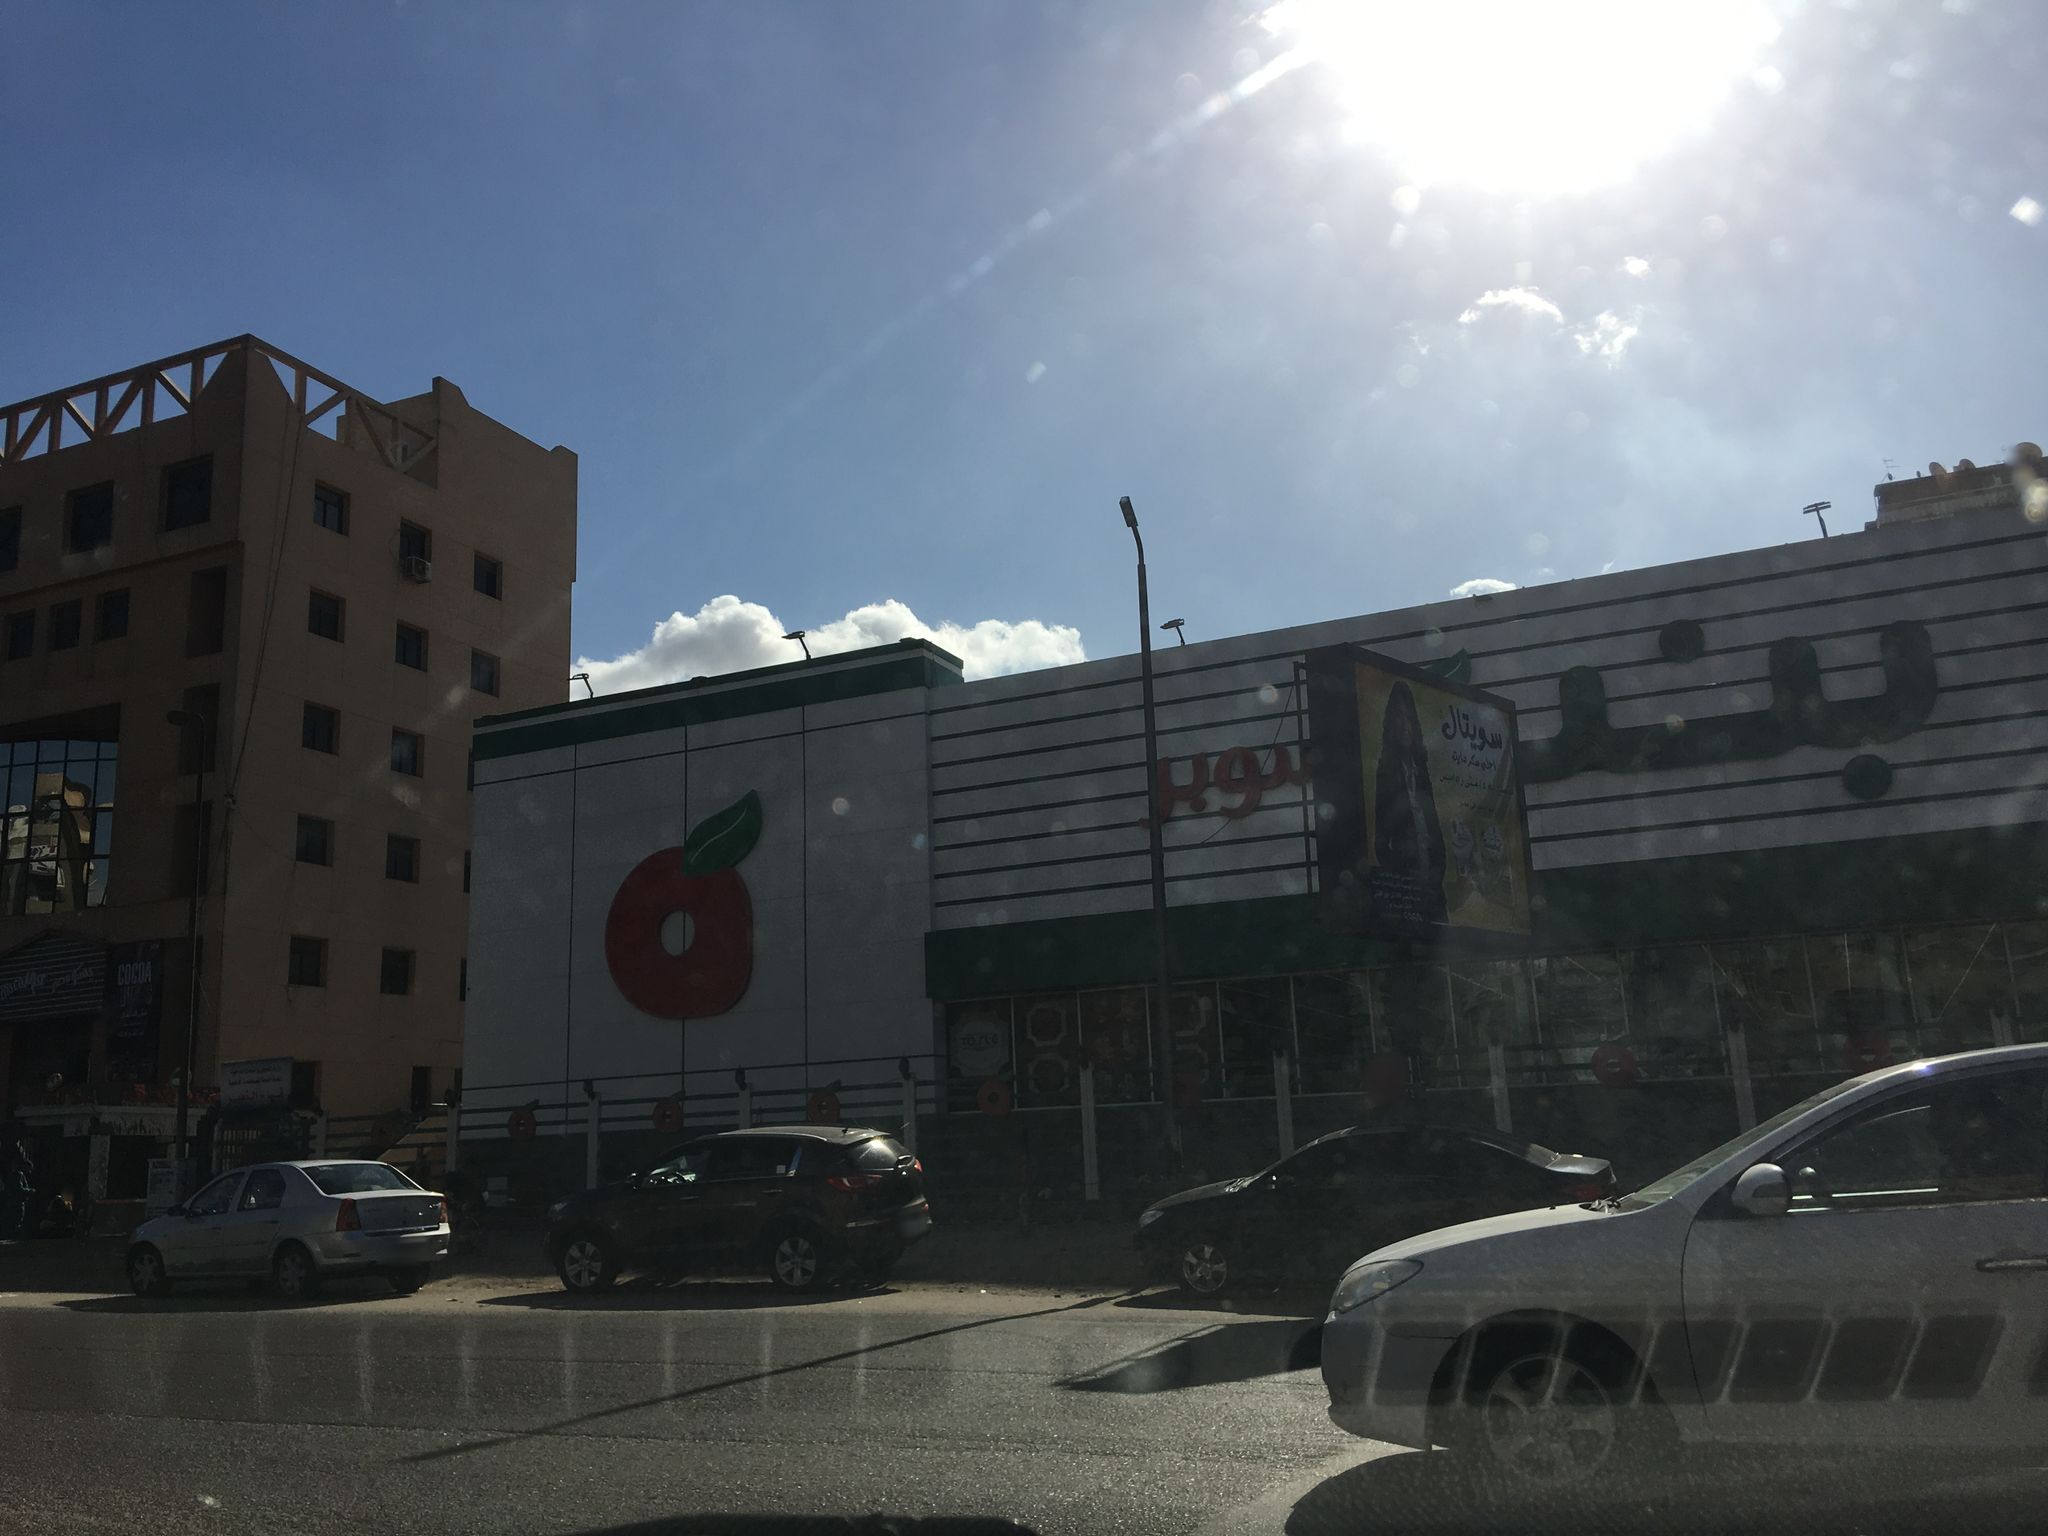car: (1316, 1031, 2048, 1483), (1134, 1123, 1622, 1305), (543, 1123, 935, 1297), (126, 1155, 452, 1289)
